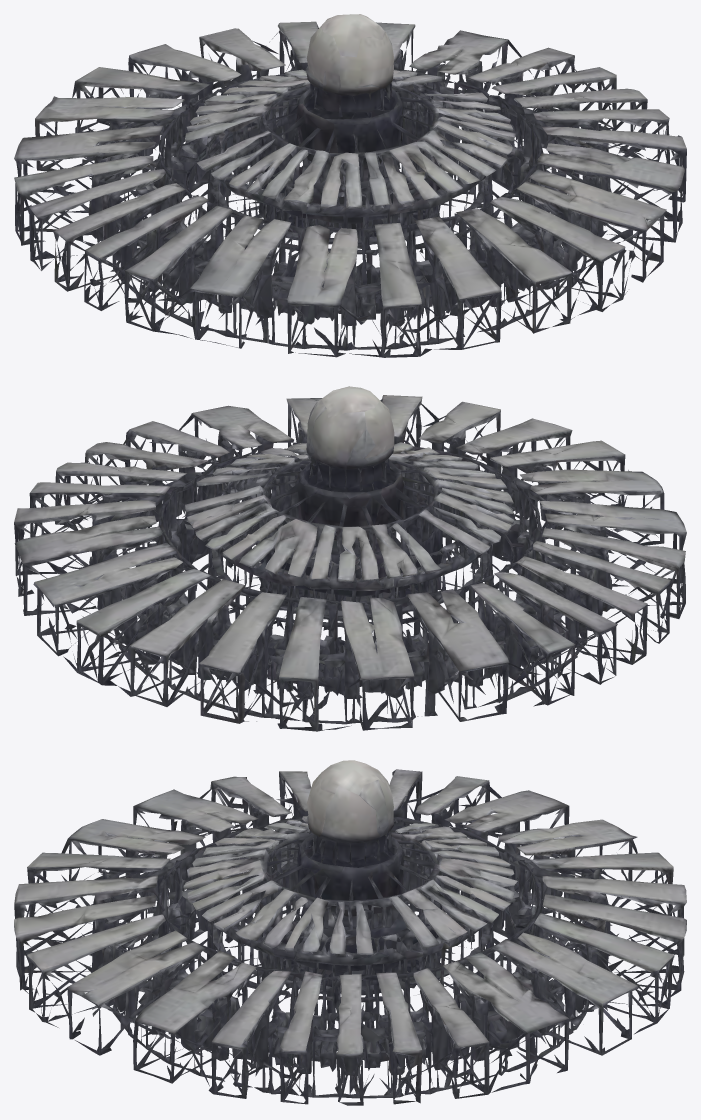
The model's file is dyson-wn0t3jmY.glb.
3 renders of one model, top to bottom at view 1: azimuth 30°, elevation 25°; view 2: azimuth 150°, elevation 25°; view 3: azimuth 270°, elevation 25°, orthographic.
Parts seen in each view (by area): view 1: Mesh_0; view 2: Mesh_0; view 3: Mesh_0.
Part boxes in pixels (x1,y1,x2,y2): Mesh_0: (14,14,686,357); Mesh_0: (14,386,686,731); Mesh_0: (14,760,686,1105).
Bounding box in the file's own units: 1.91 × 0.7327 × 1.91.
1 material, 1 textured.
